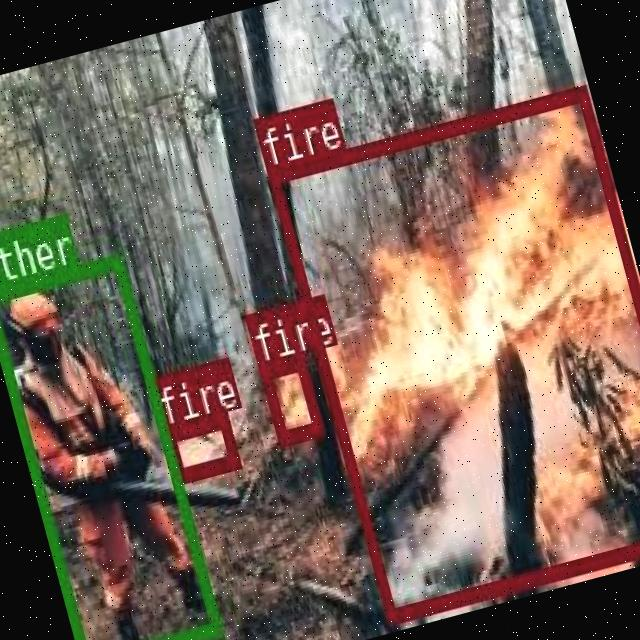fire: (265, 83, 640, 622), (255, 352, 321, 444), (160, 410, 238, 480)
